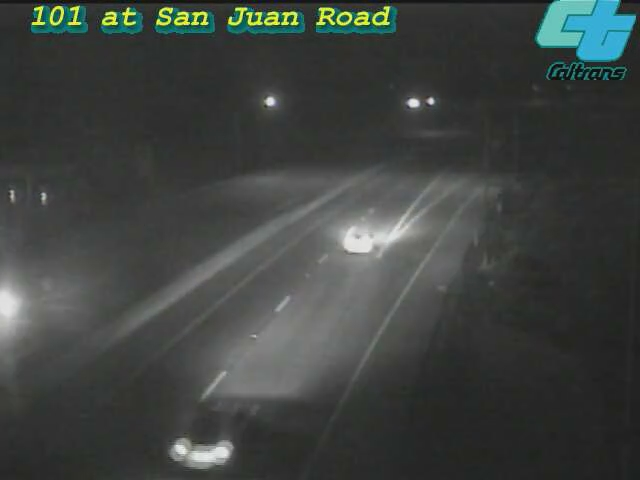vehicle: (158, 375, 268, 480), (319, 205, 399, 285), (1, 265, 49, 345)
